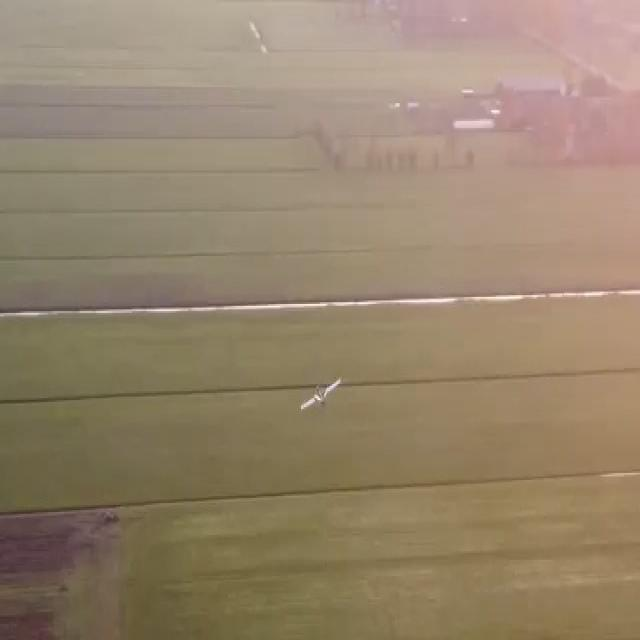drones: (299, 378, 343, 415)
